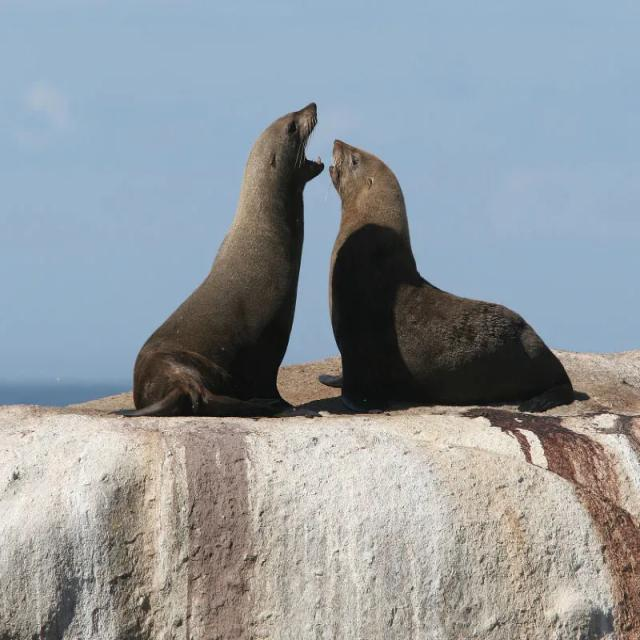WaterDog: (328, 136, 582, 411), (124, 101, 326, 415)
